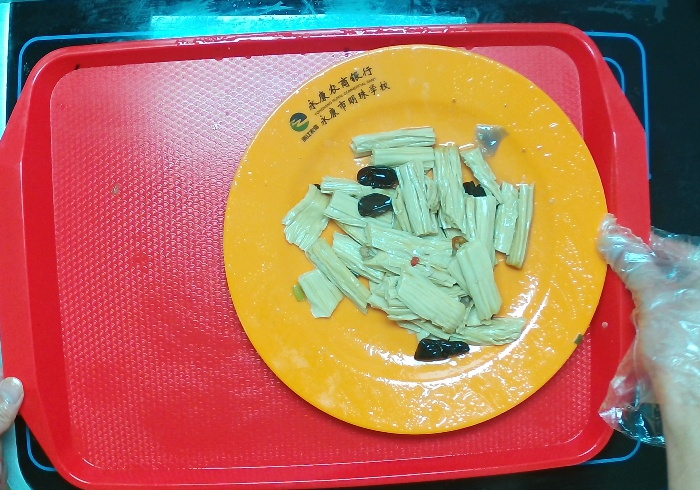YKMZ-Ju_Se_Mian_Pan: (222, 42, 610, 436)
